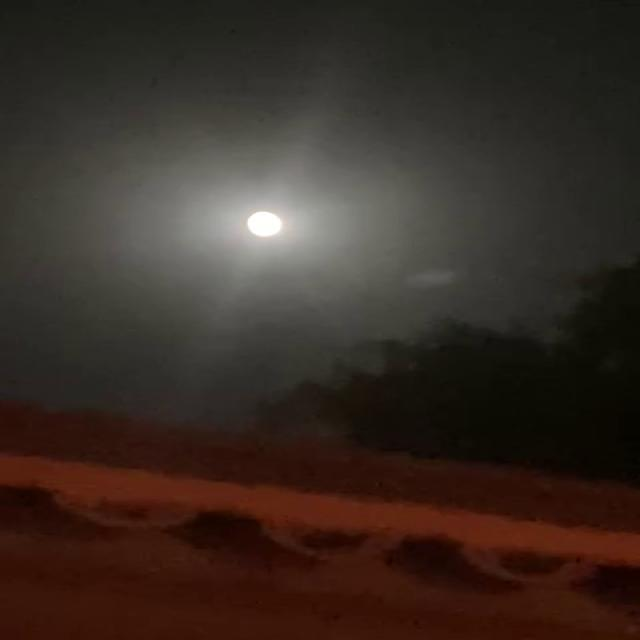moon: (248, 208, 308, 248)
